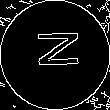N_W: (29, 34, 81, 76)
